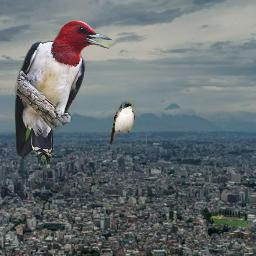Swallow: (110, 100, 136, 145)
Woodpecker: (11, 21, 117, 168)
